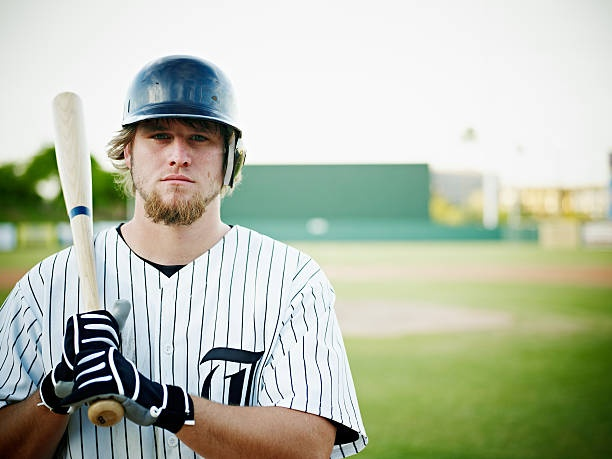bita: (47, 89, 123, 426)
